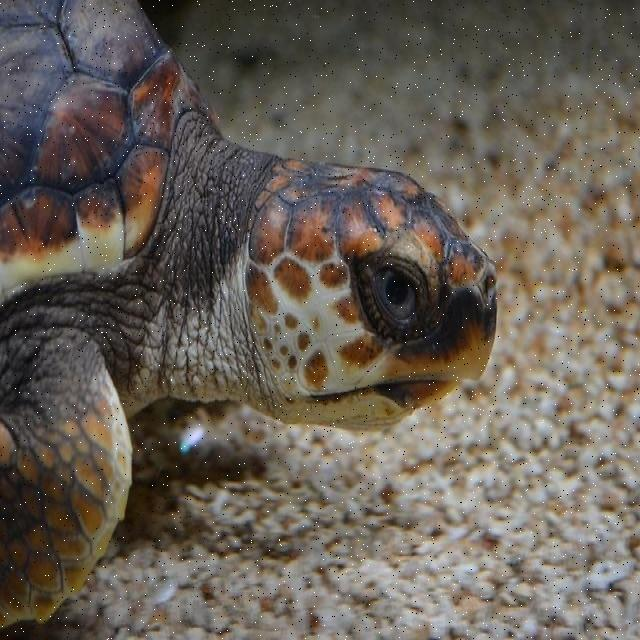fish: (0, 0, 497, 627)
